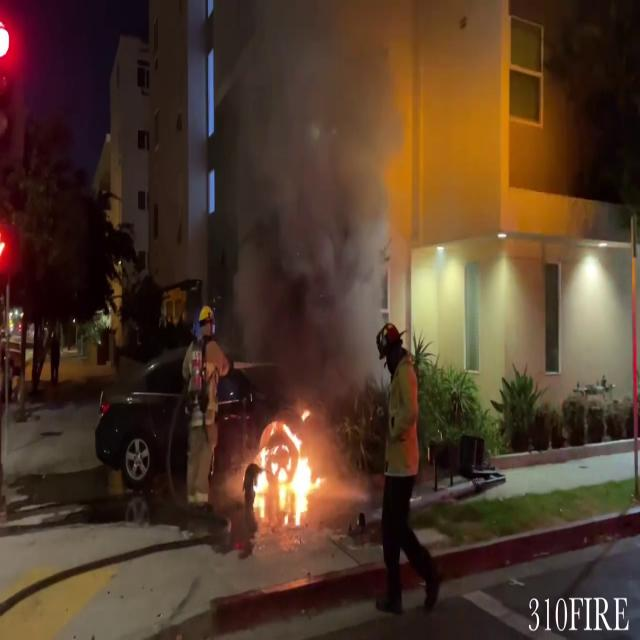Fire: (246, 409, 325, 530)
Smoke: (223, 0, 428, 385)
